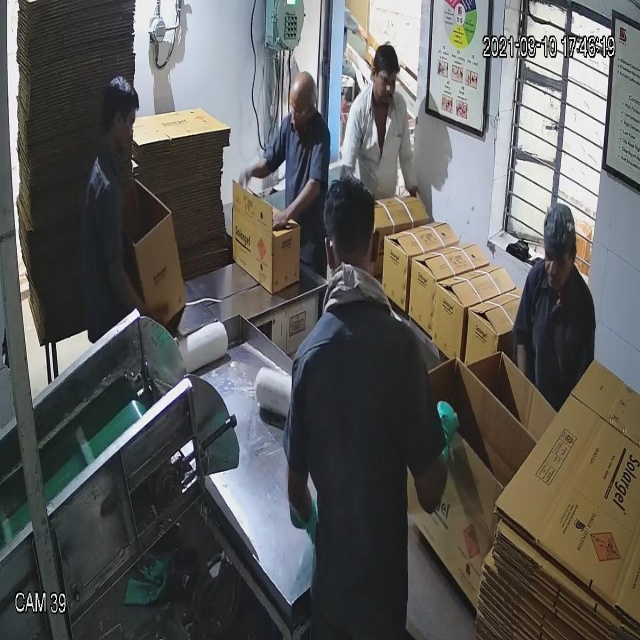Guantes: (419, 381, 460, 484)
Sin_guantes: (106, 252, 172, 337), (270, 165, 322, 245), (235, 142, 292, 193)
